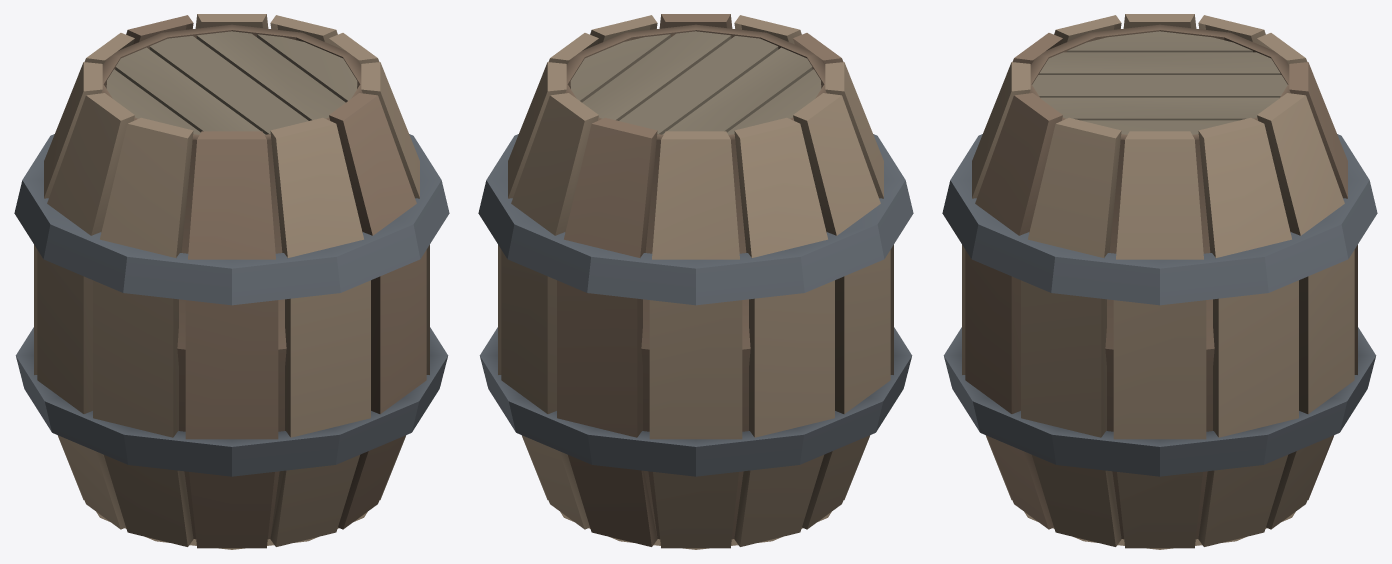
File: barrel.glb
3 renders of one model, left to right at view 1: azimuth 30°, elevation 25°; view 2: azimuth 150°, elevation 25°; view 3: azimuth 270°, elevation 25°, orthographic.
Visible parts, largest first — view 1: barrel; view 2: barrel; view 3: barrel.
Boxes of the visible parts, x1,y1,x2,y2 form: barrel: [14, 14, 449, 549]; barrel: [478, 14, 913, 549]; barrel: [942, 14, 1377, 549].
Size of the model in its own units: 0.8876 by 0.92 by 0.8876.
